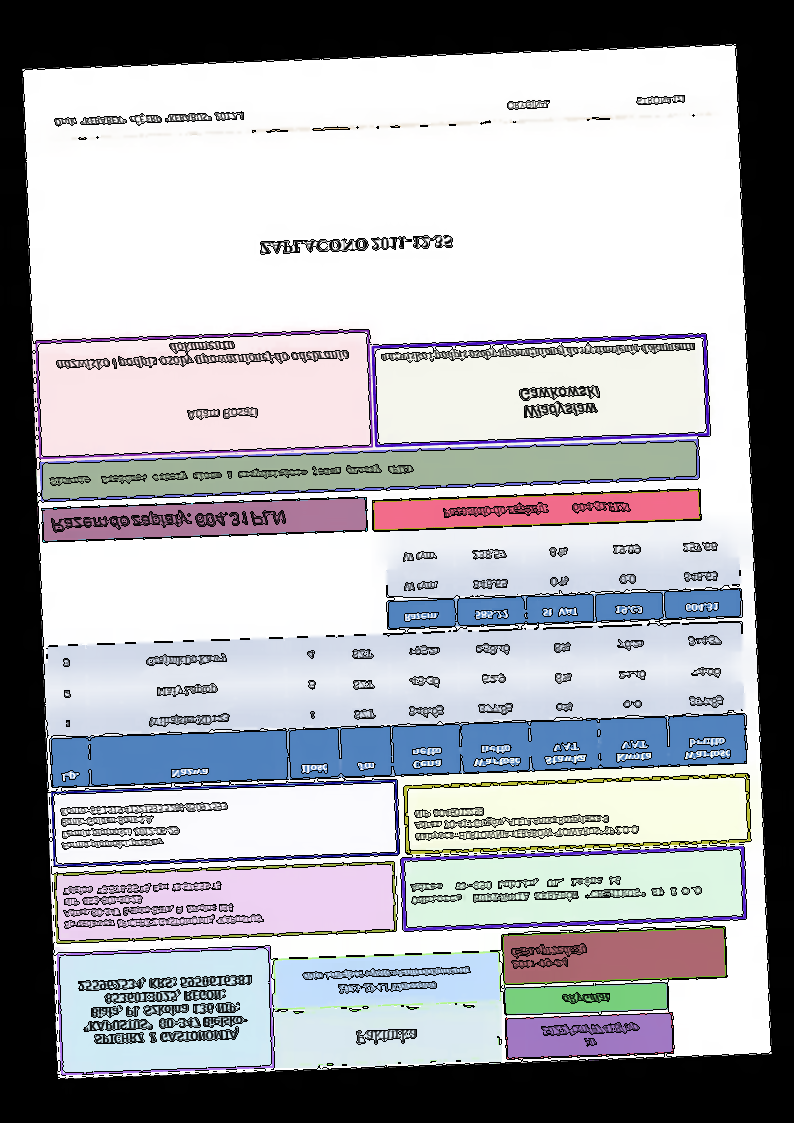Table: (46, 620, 747, 788), (384, 526, 742, 630)
TextBox: (75, 973, 256, 1047), (409, 871, 709, 908), (53, 336, 350, 373), (62, 878, 266, 931), (47, 462, 417, 489), (412, 800, 643, 843), (59, 800, 230, 852), (379, 338, 697, 365), (47, 505, 290, 535), (299, 964, 472, 997), (257, 232, 456, 258), (439, 498, 632, 521), (52, 109, 247, 129), (536, 1018, 641, 1051), (518, 384, 602, 422), (508, 941, 589, 970), (353, 1026, 419, 1046), (184, 406, 259, 422), (559, 989, 612, 1007), (634, 93, 686, 106), (504, 98, 551, 112)
